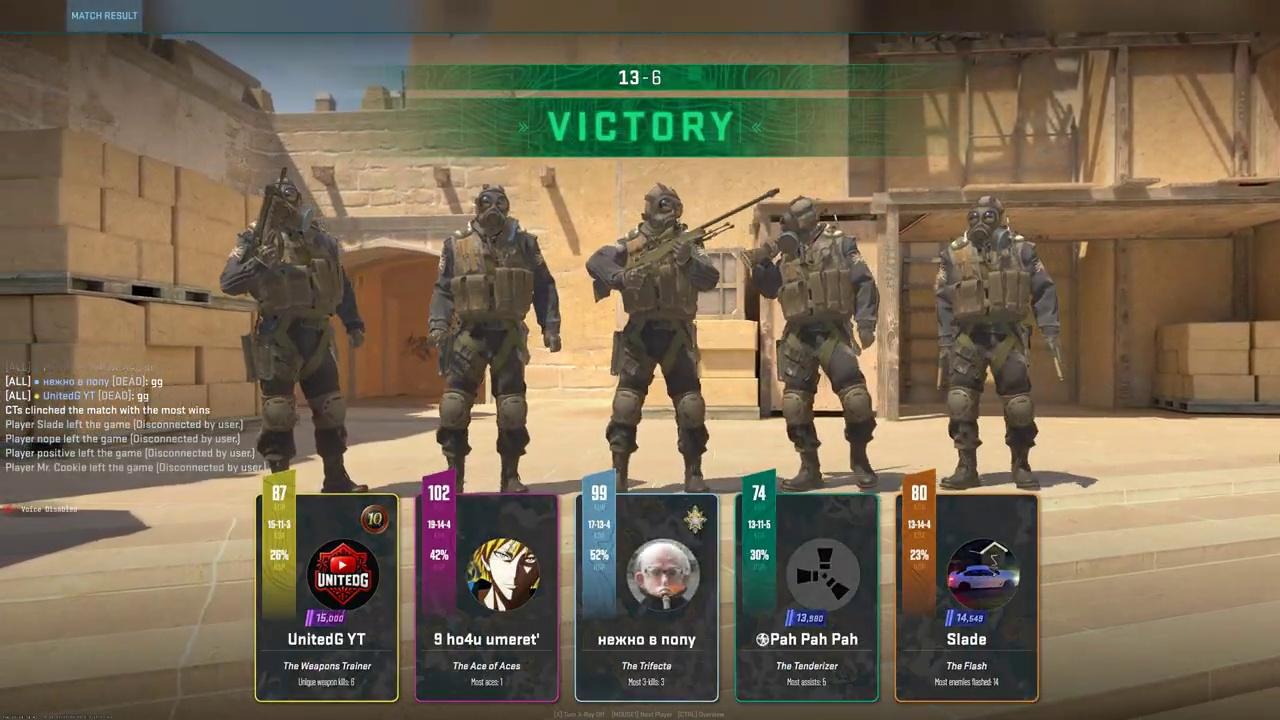CT: (238, 175, 355, 495), (428, 186, 542, 495), (760, 196, 876, 487), (608, 184, 712, 494), (936, 196, 1043, 488)
